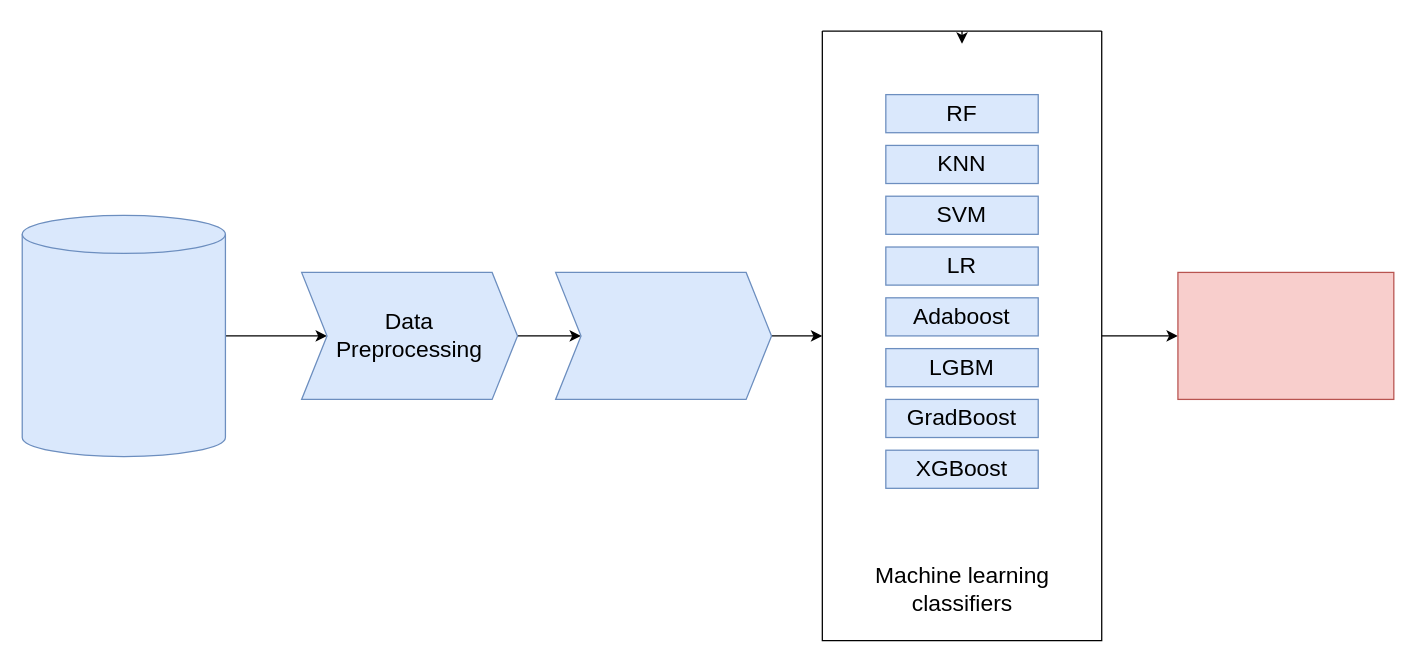
This 1416x663 diagram has some shape labels left out. The box of each missing label's shape, as (x1, y1, x2, y2) in pixels:
Call Detail Records: (21, 214, 225, 457)
Data Analyzing: (554, 271, 772, 399)
Performance Evaluation: (1177, 271, 1394, 399)
